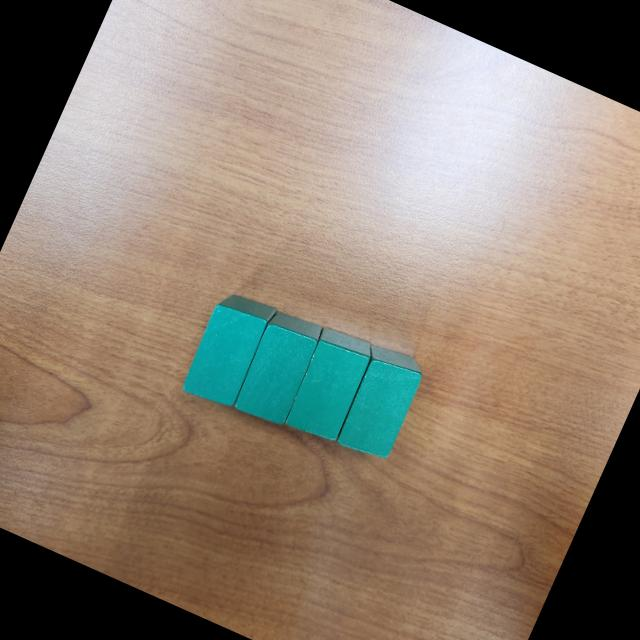green: (326, 338, 429, 466), (177, 285, 278, 413), (280, 322, 379, 448), (230, 306, 328, 430)
